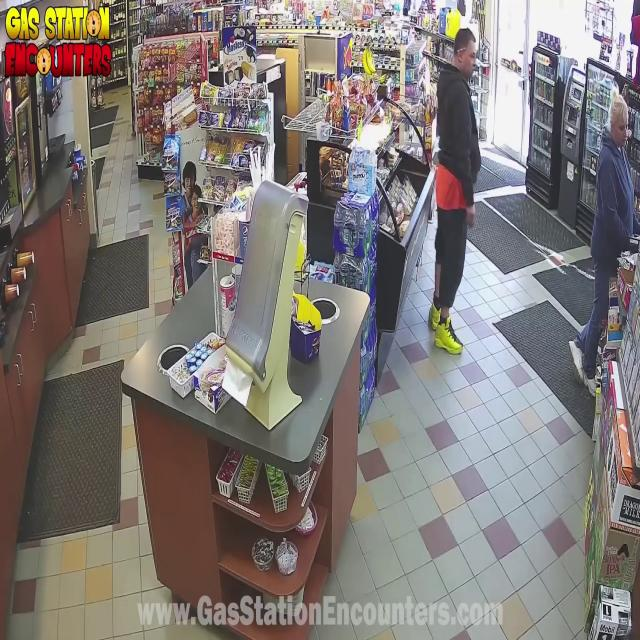normal: (388, 8, 510, 377), (578, 86, 640, 400)
